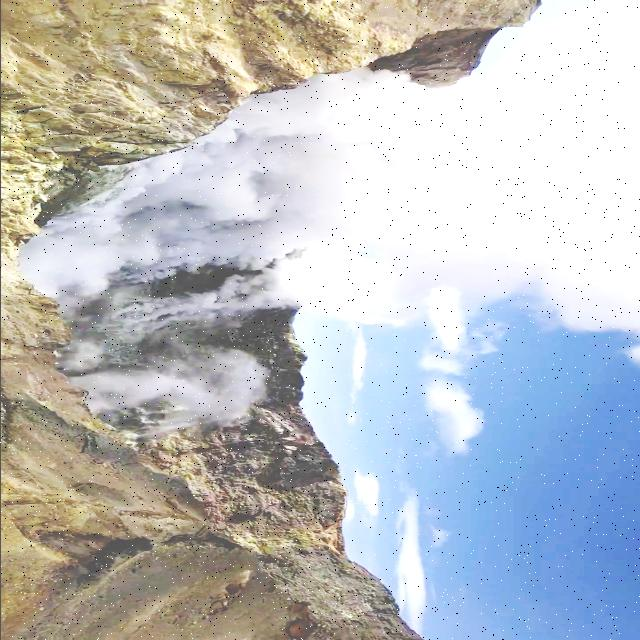asap: (14, 48, 624, 436)
